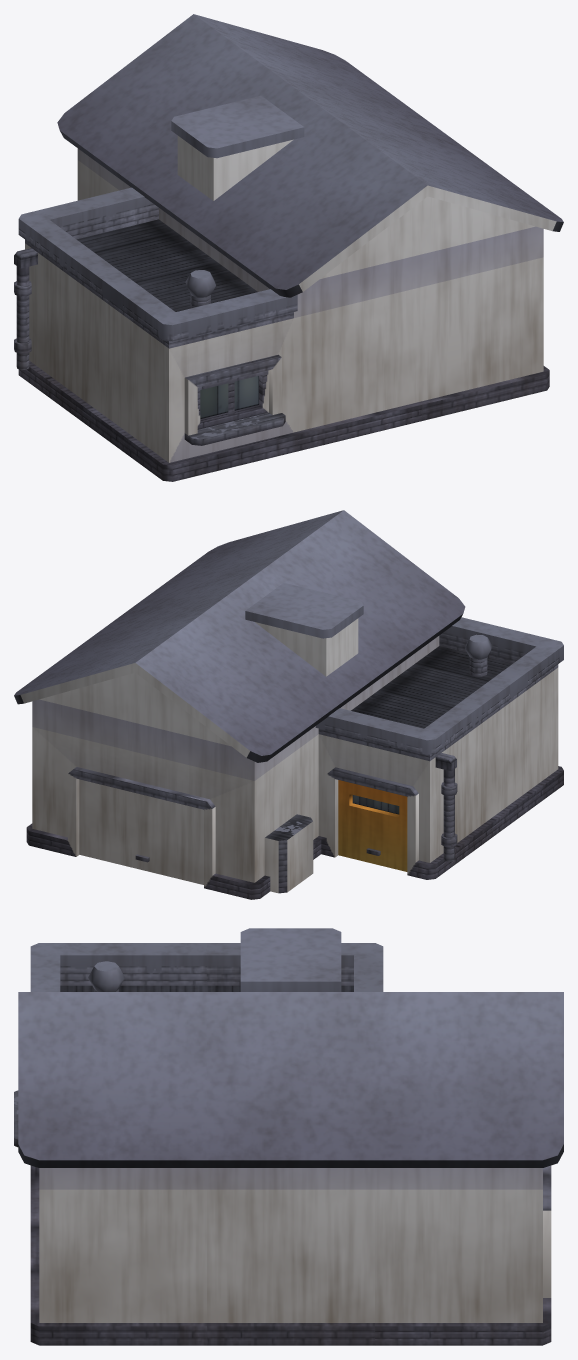
Rendered from building-h-white.glb.
3 renders of one model, top to bottom at view 1: azimuth 30°, elevation 25°; view 2: azimuth 150°, elevation 25°; view 3: azimuth 270°, elevation 25°, orthographic. The views are drawn at different scales.
Visible parts, largest first — view 1: building-h; view 2: building-h; view 3: building-h.
Part boxes in pixels (x1=…): building-h: x1=14, y1=14, x2=563, y2=481; building-h: x1=14, y1=510, x2=563, y2=899; building-h: x1=14, y1=928, x2=563, y2=1345.
Size of the model in its own units: 1.32 by 0.7335 by 1.31.
Materials: 1 (1 with a texture image).
